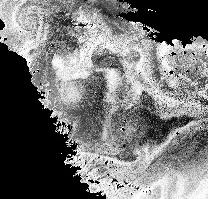CE: (13, 5, 47, 37)
